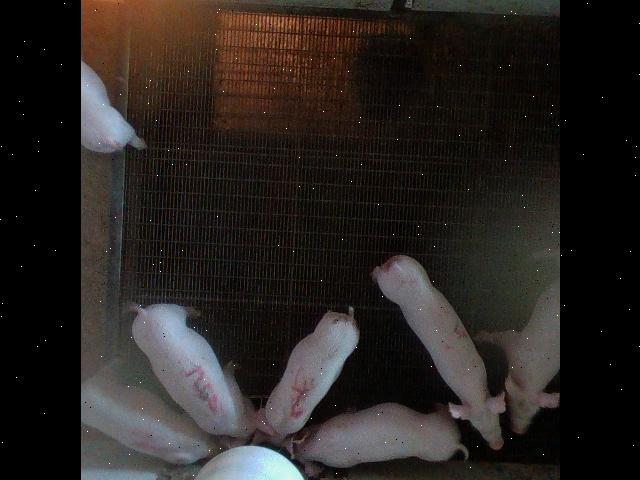pig-3: (131, 304, 275, 448)
pig-4: (81, 364, 221, 464)
pig-5: (253, 312, 358, 457)
